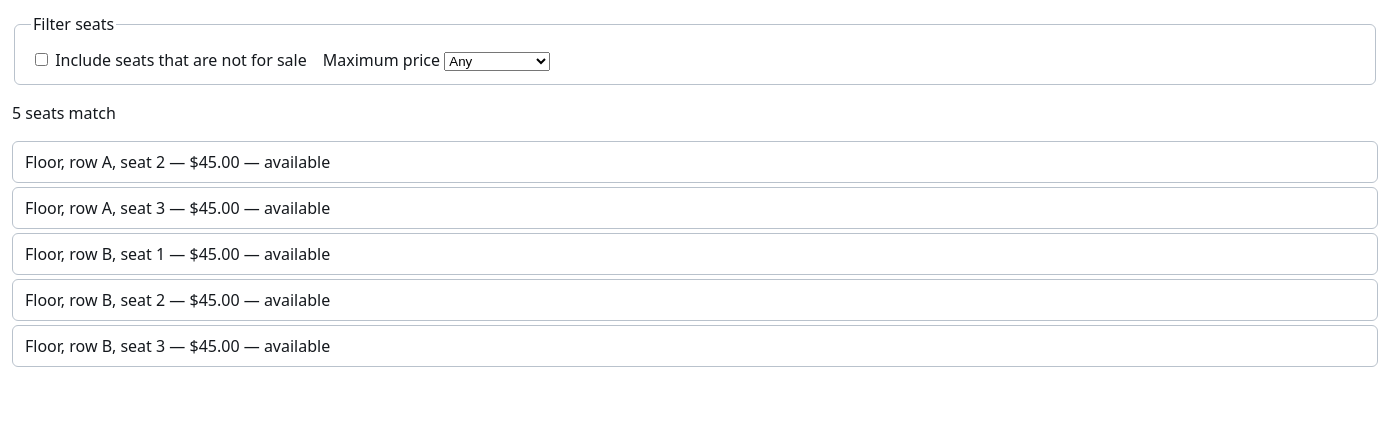
Scenario: SeatListMode › can include unavailable seats when asked
Click the checkbox labelled "Include seats that are not for sale": click(42, 60) x1=35 y1=53 x2=48 y2=66
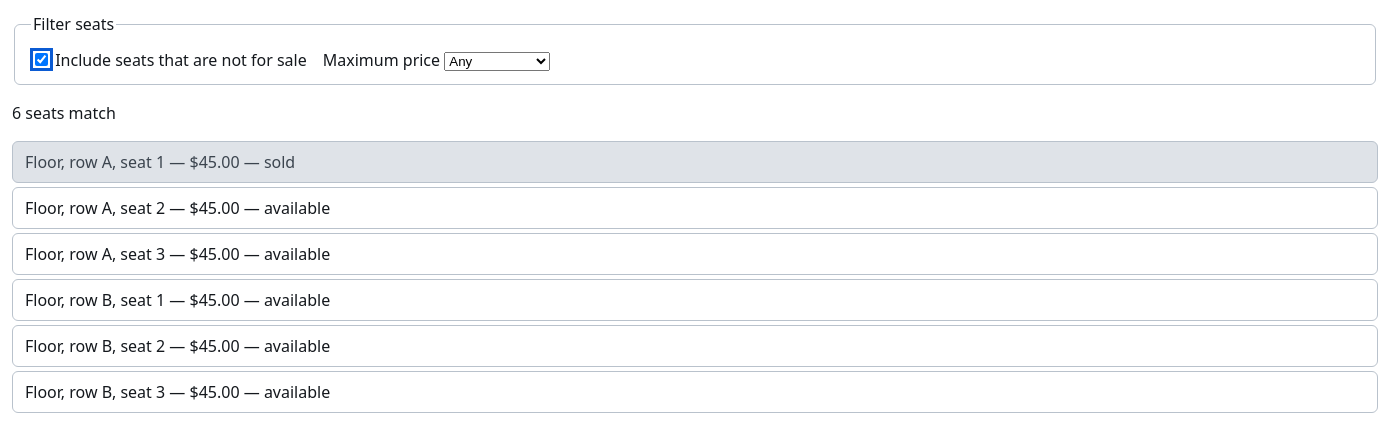
expect the message reads "6 seats match": met, box x1=12 y1=102 x2=116 y2=124
expect the button "Floor, row A, seat 1 — $45.00 — sold" is shown: met, box x1=12 y1=141 x2=1378 y2=183
